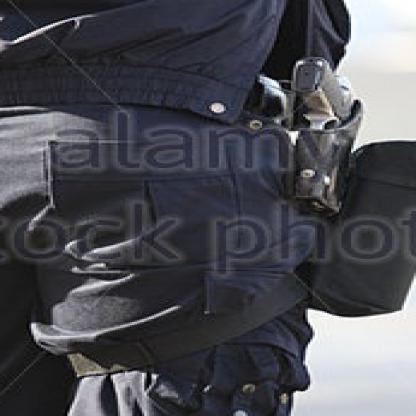gun: (286, 54, 366, 208)
